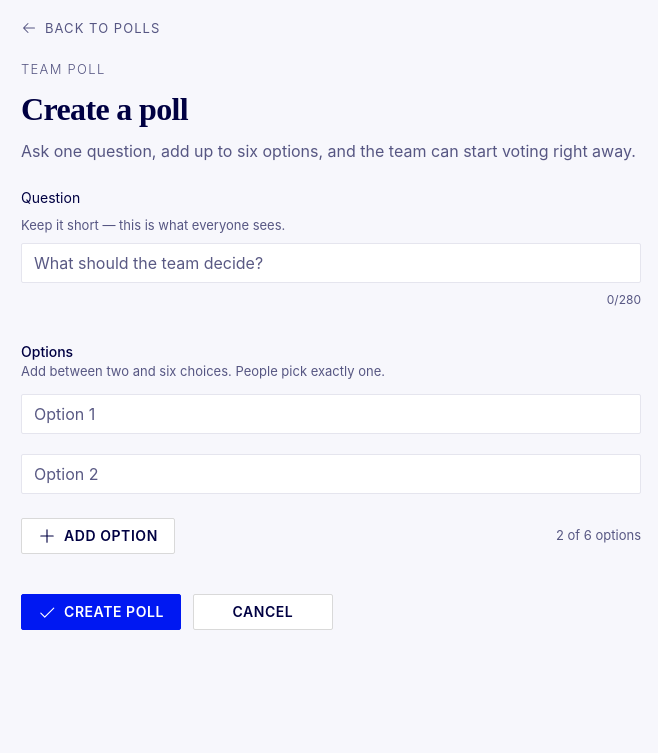
CreatePollPage › CreatePollPage — submit empty — shows the validation summary and field errors
The width and height of the screenshot is (658, 753).
Click the button "Create poll": (101, 612) [21,594,181,630]
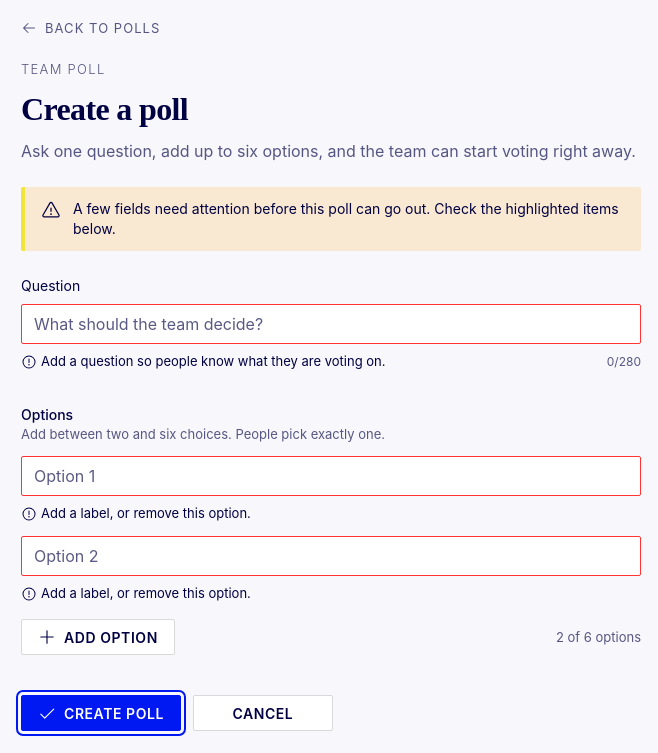
Result: the text "need attention" is shown at [73,200,618,237]
Result: the text "Add a question so people know what they are voting on." is shown at [41,352,386,372]
